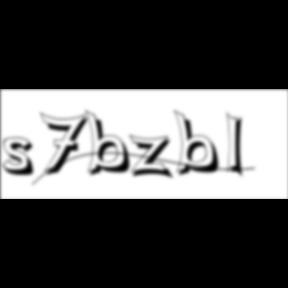7: (40, 111, 94, 179)
I: (227, 110, 251, 182)
b: (84, 109, 138, 179), (174, 109, 226, 179)
s: (3, 137, 42, 179)
z: (128, 134, 178, 182)
